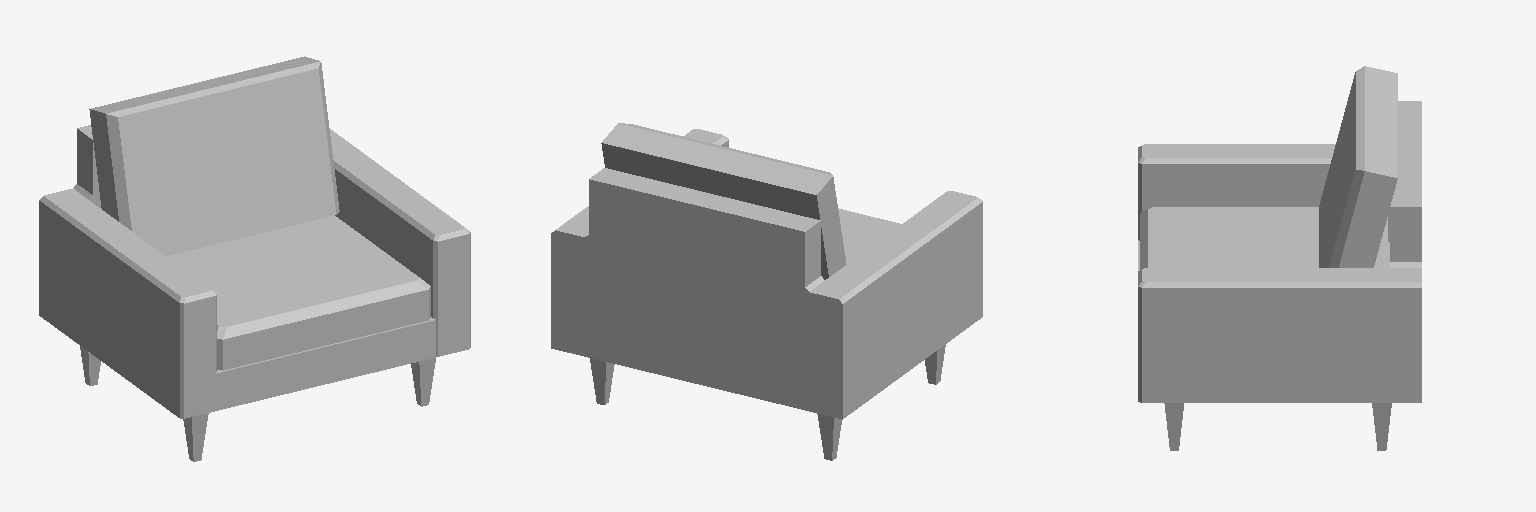
The model's file is armchair.obj.
The picture shows the model from 3 angles: view 1: azimuth 30°, elevation 25°; view 2: azimuth 150°, elevation 25°; view 3: azimuth 270°, elevation 25°; orthographic projection.
Bounding box in the file's own units: 2 × 1.8 × 1.69.